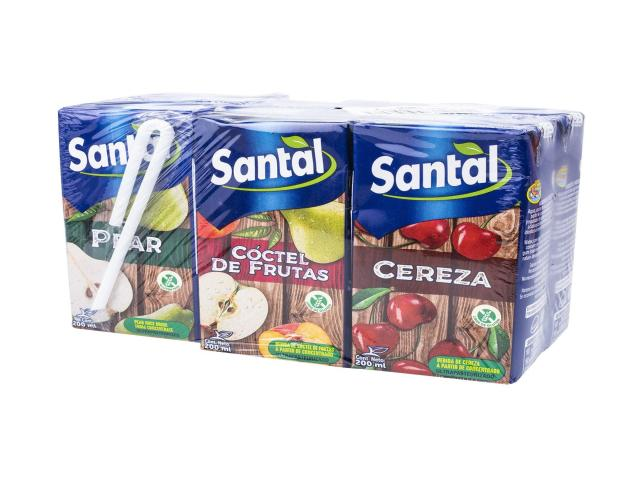drink_box: (349, 117, 558, 399), (198, 114, 348, 369), (54, 101, 198, 345)
